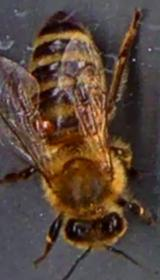varroa_mite: (32, 107, 62, 136)
